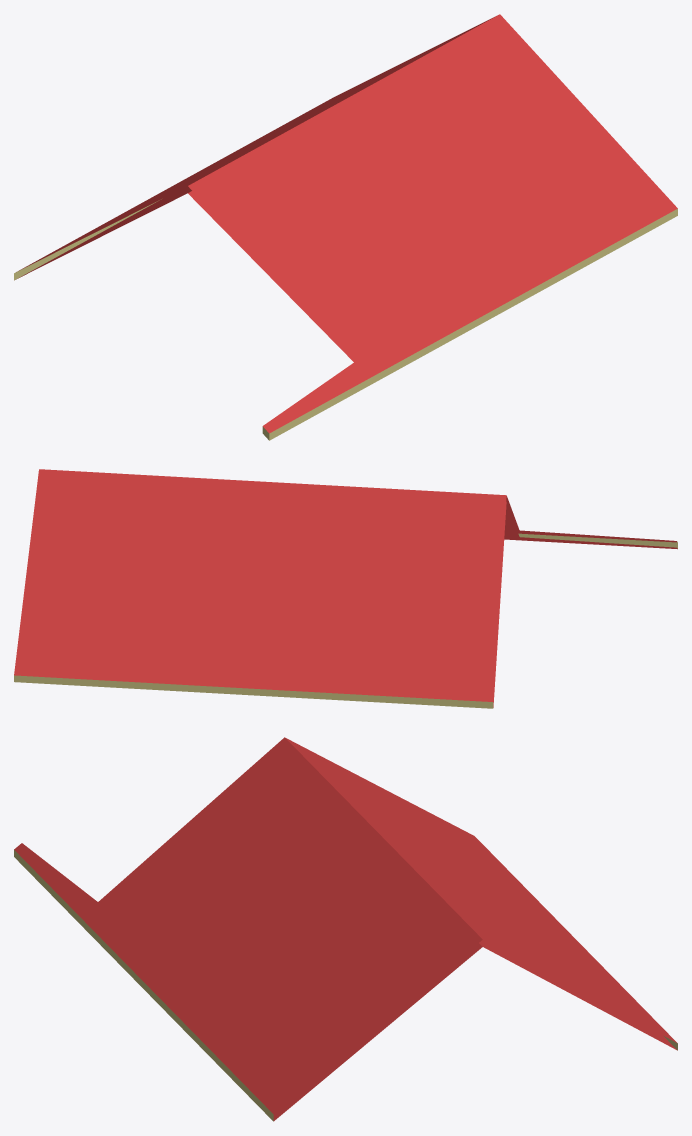
3 renders of one model, top to bottom at view 1: azimuth 30°, elevation 25°; view 2: azimuth 150°, elevation 25°; view 3: azimuth 270°, elevation 25°, orthographic. The views are drawn at different scales.
Size of the model in its own units: 8.12 by 8.19 by 1.98.
